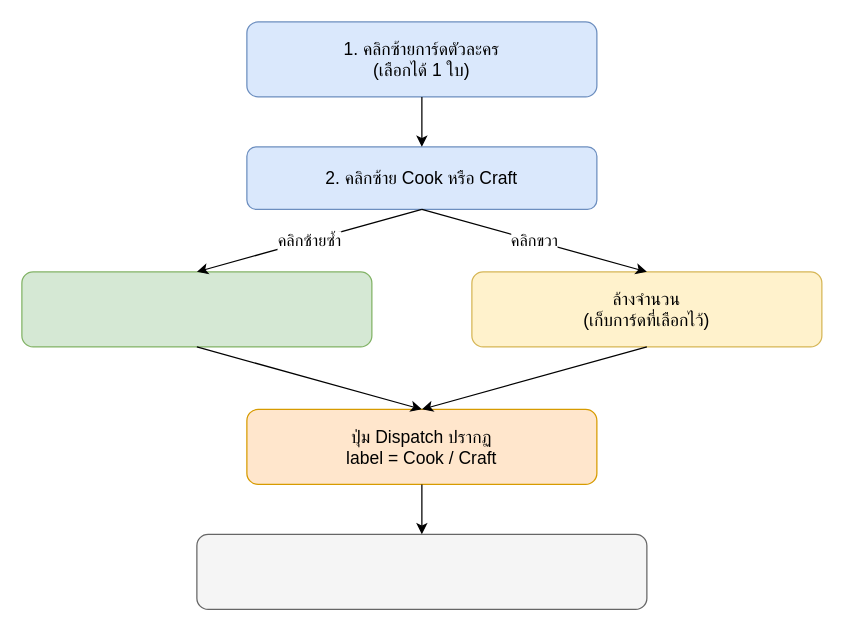
The diagram is 844 pixels wide and 631 high, and some of its shapes have lost their labels. The shapes that lost their labels are listed below. From the top down, each one's centre as x and y in pixels, then its label:
(x=196, y=309): +1 รอบ (จน AP หมด / วัตถุดิบหมด)
(x=421, y=571): ยืนยัน → BaseWorkController → OnBaseWorkCompleted → Log
